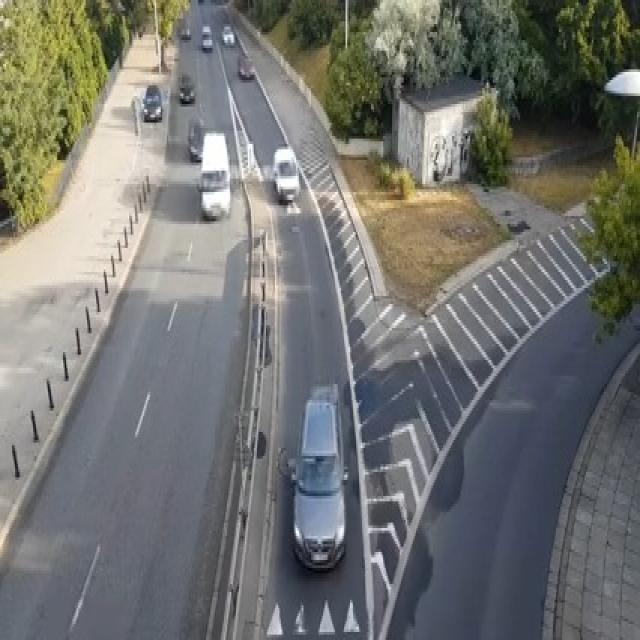bus: (197, 128, 230, 219)
car: (288, 381, 348, 571), (272, 144, 299, 203), (141, 83, 162, 120), (187, 117, 204, 160), (178, 72, 195, 101), (238, 54, 255, 78), (221, 24, 234, 45), (201, 24, 212, 48), (180, 24, 191, 37)
